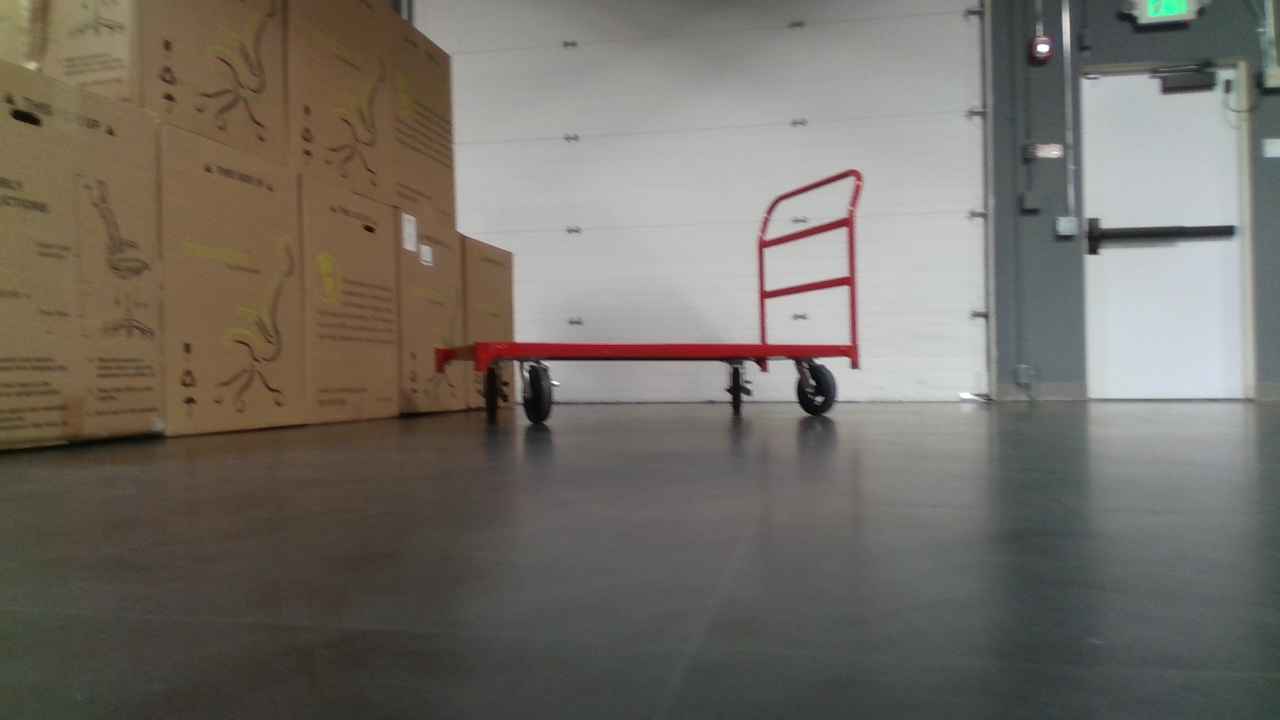Dolly: (430, 153, 870, 427)
Wheel: (788, 365, 843, 422), (523, 356, 562, 433), (477, 355, 515, 427), (718, 359, 754, 427)
